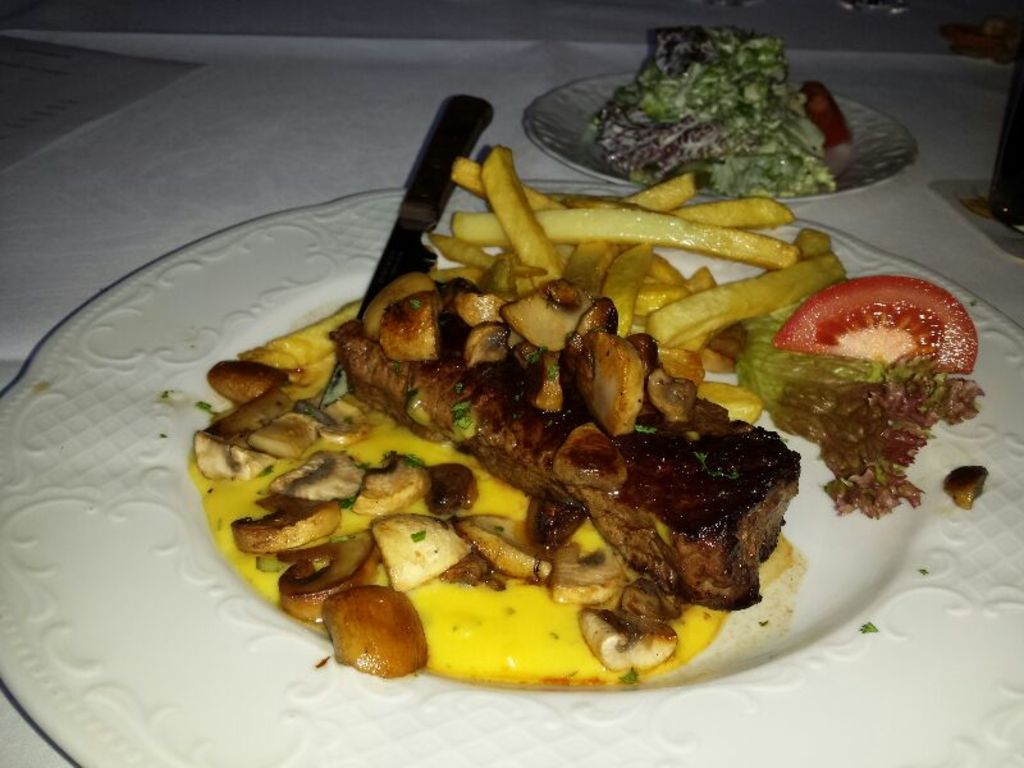French fries: (422, 148, 830, 326), (645, 259, 757, 357)
